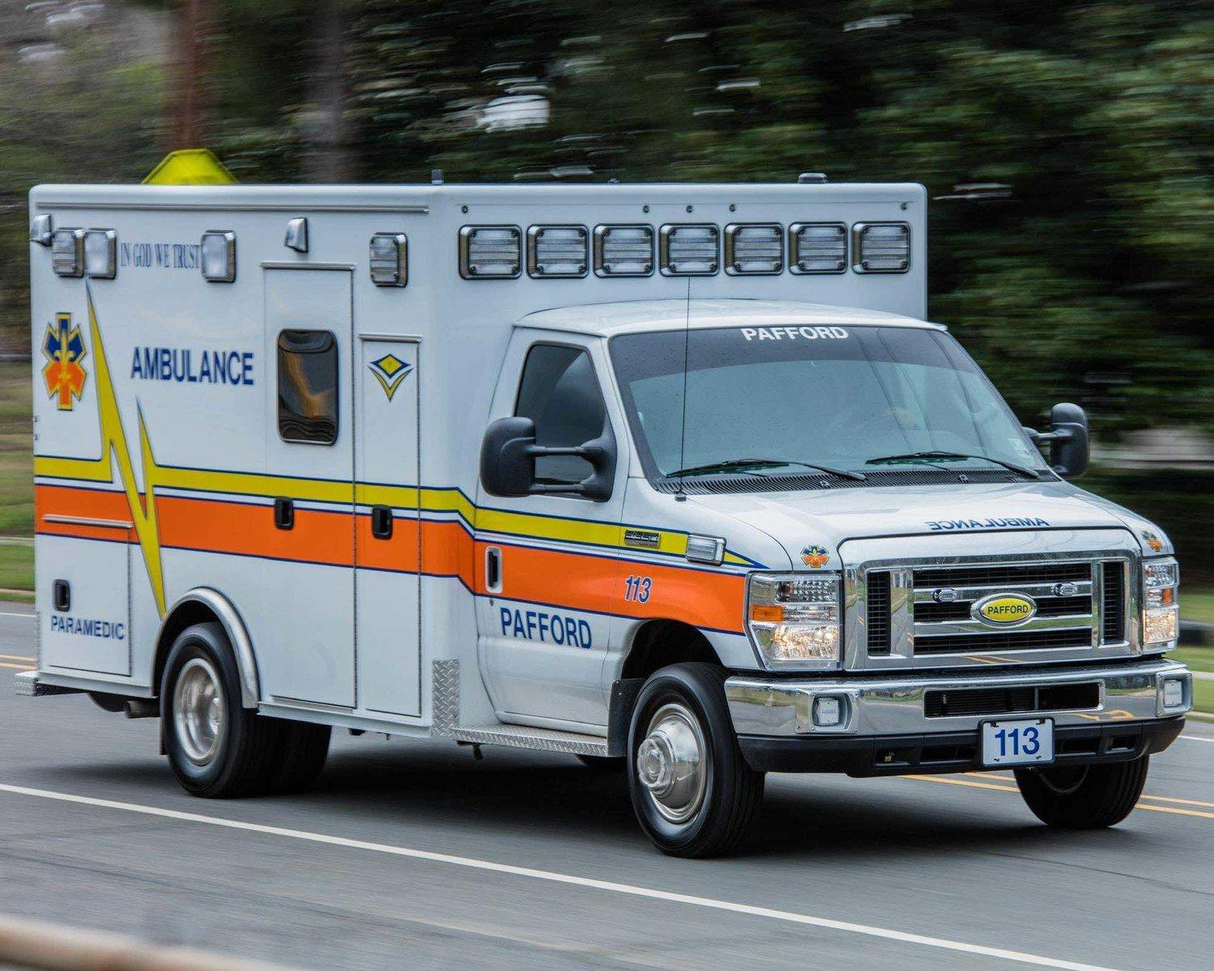Ambulance: (114, 334, 260, 400)
